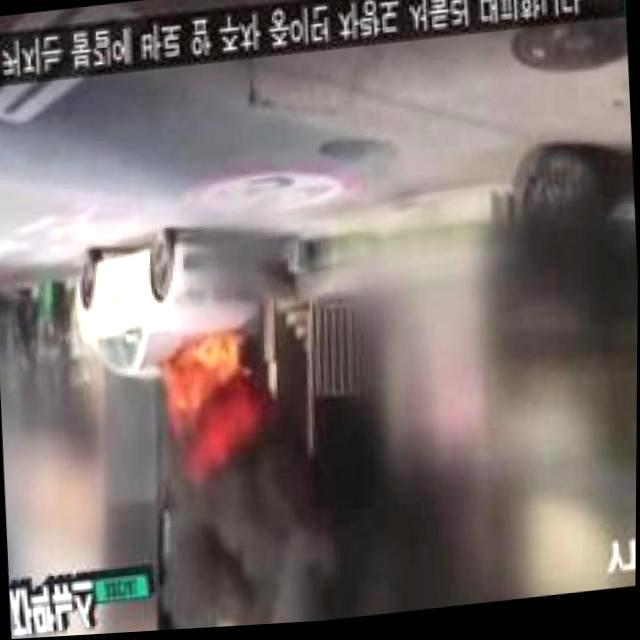fire: (160, 332, 260, 460)
